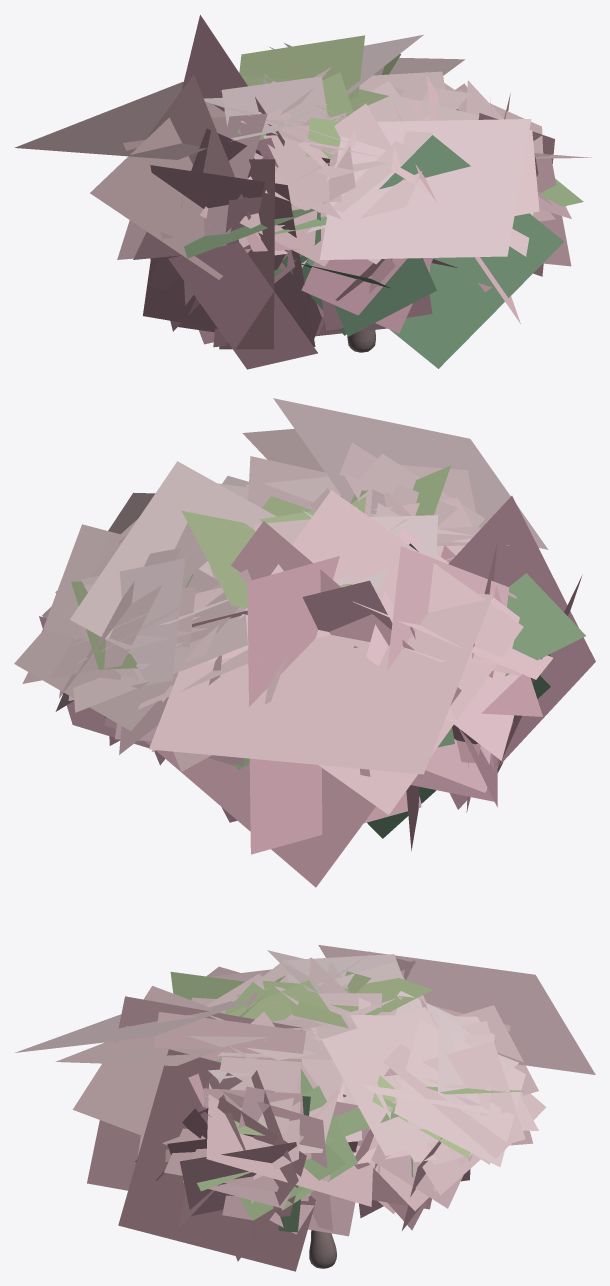
File: wild_cherry_v1.glb
3 views of the same model, one above another, from view 1: azimuth 30°, elevation 25°; view 2: azimuth 150°, elevation 25°; view 3: azimuth 270°, elevation 25° (orthographic). The views are drawn at different scales.
Parts seen in each view (by area): view 1: far, near; view 2: far, near; view 3: far, near.
Boxes of the visible parts, x1,y1,x2,y2 form: far: (14,15,591,369); near: (169,35,571,352); far: (14,398,595,887); near: (22,442,585,771); far: (15,945,595,1271); near: (135,950,538,1268).
Size of the model in its own units: 13.63 by 9.42 by 16.33.
